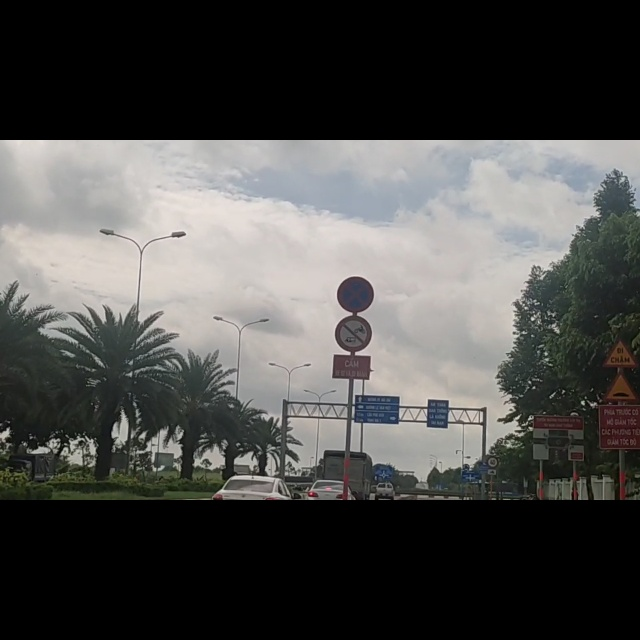bien_nguy_hiem: (333, 242, 376, 309), (335, 311, 373, 377), (602, 353, 637, 407), (604, 414, 639, 467)
